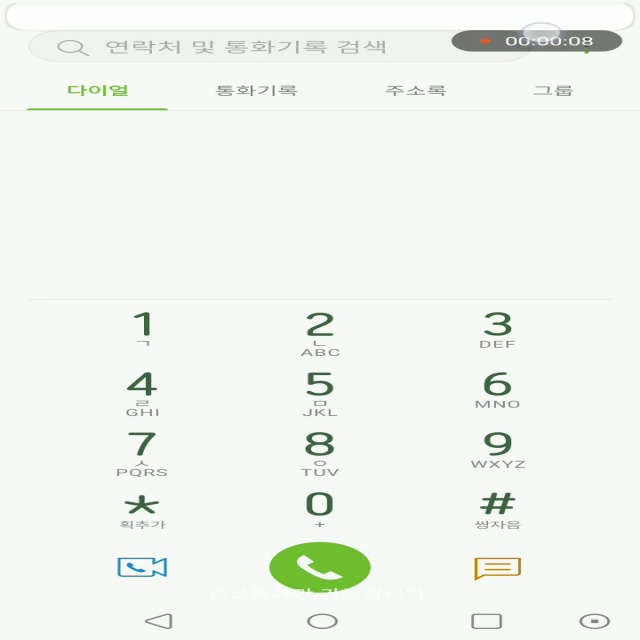Cursor: (520, 22, 564, 44)
